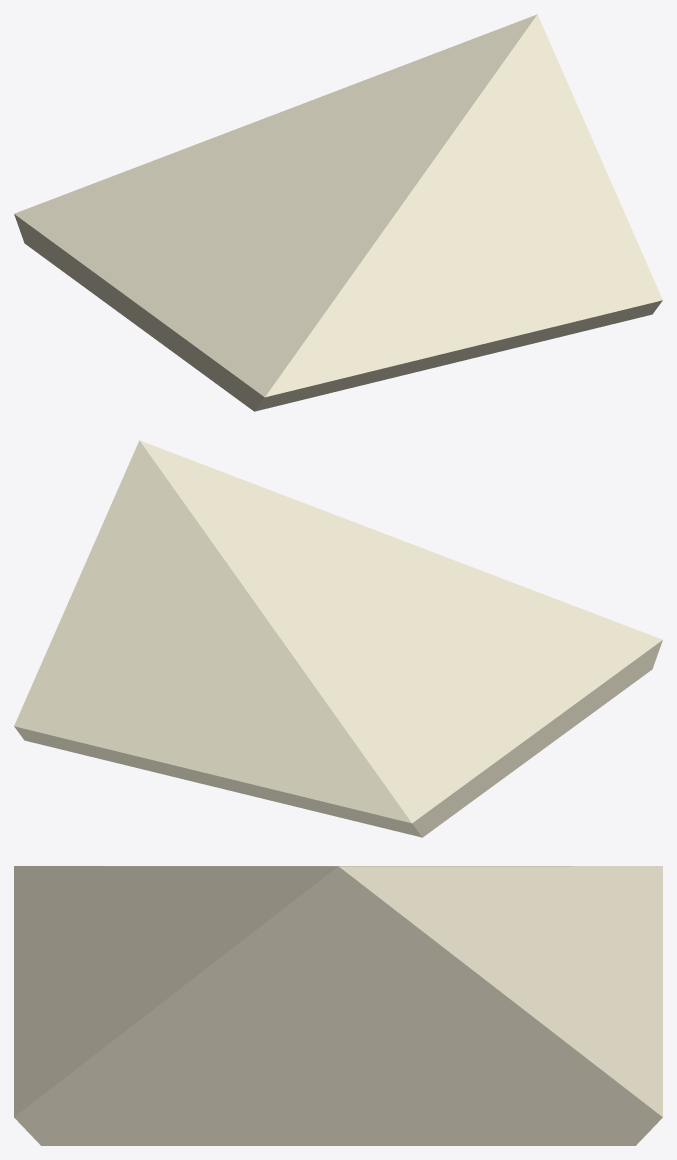
Rendered from modularbuildings_064.glb.
The picture shows the model from 3 angles, top to bottom: view 1: azimuth 30°, elevation 25°; view 2: azimuth 150°, elevation 25°; view 3: azimuth 270°, elevation 25°; orthographic projection. The views are drawn at different scales.
Parts seen in each view (by area): view 1: Mesh1 Group1 Model; view 2: Mesh1 Group1 Model; view 3: Mesh1 Group1 Model.
Boxes of the visible parts, x1,y1,x2,y2 form: Mesh1 Group1 Model: [14, 14, 662, 411]; Mesh1 Group1 Model: [14, 440, 662, 837]; Mesh1 Group1 Model: [14, 866, 662, 1145].
Size of the model in its own units: 1 by 0.5188 by 1.09.
